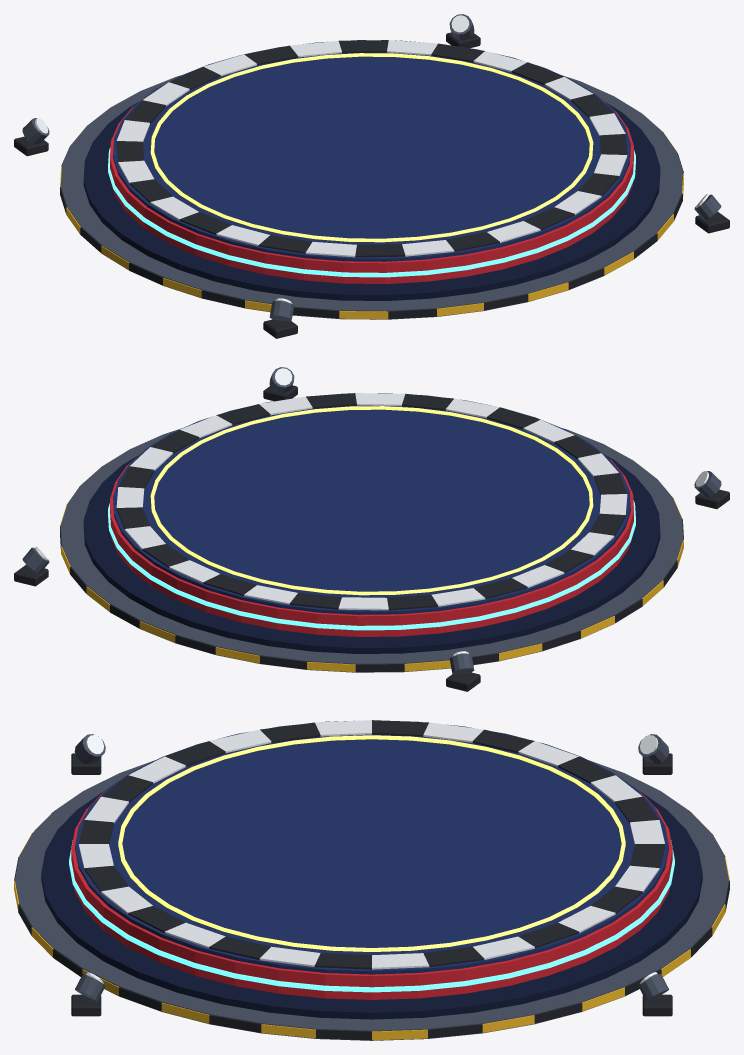
Rendered from TruckStage.fbx.
3 views of the same model, one above another, from view 1: azimuth 30°, elevation 25°; view 2: azimuth 150°, elevation 25°; view 3: azimuth 270°, elevation 25° (orthographic). The views are drawn at different scales.
Parts seen in each view (by area): view 1: TruckStage, Neon_Yellow, Neon_Cyan; view 2: TruckStage, Neon_Yellow, Neon_Cyan; view 3: TruckStage, Neon_Yellow, Neon_Cyan, Neon_White.
Boxes of the visible parts, x1,y1,x2,y2 form: TruckStage: [14, 14, 729, 338]; Neon_Yellow: [150, 53, 593, 242]; Neon_Cyan: [108, 147, 635, 277]; TruckStage: [14, 367, 729, 691]; Neon_Yellow: [150, 406, 593, 595]; Neon_Cyan: [108, 500, 635, 630]; TruckStage: [14, 720, 729, 1040]; Neon_Yellow: [118, 735, 625, 951]; Neon_Cyan: [69, 840, 674, 992]; Neon_White: [85, 735, 658, 983].
Size of the model in its own units: 38.1 by 2.84 by 38.1.
Materials: 4 (1 with a texture image).
